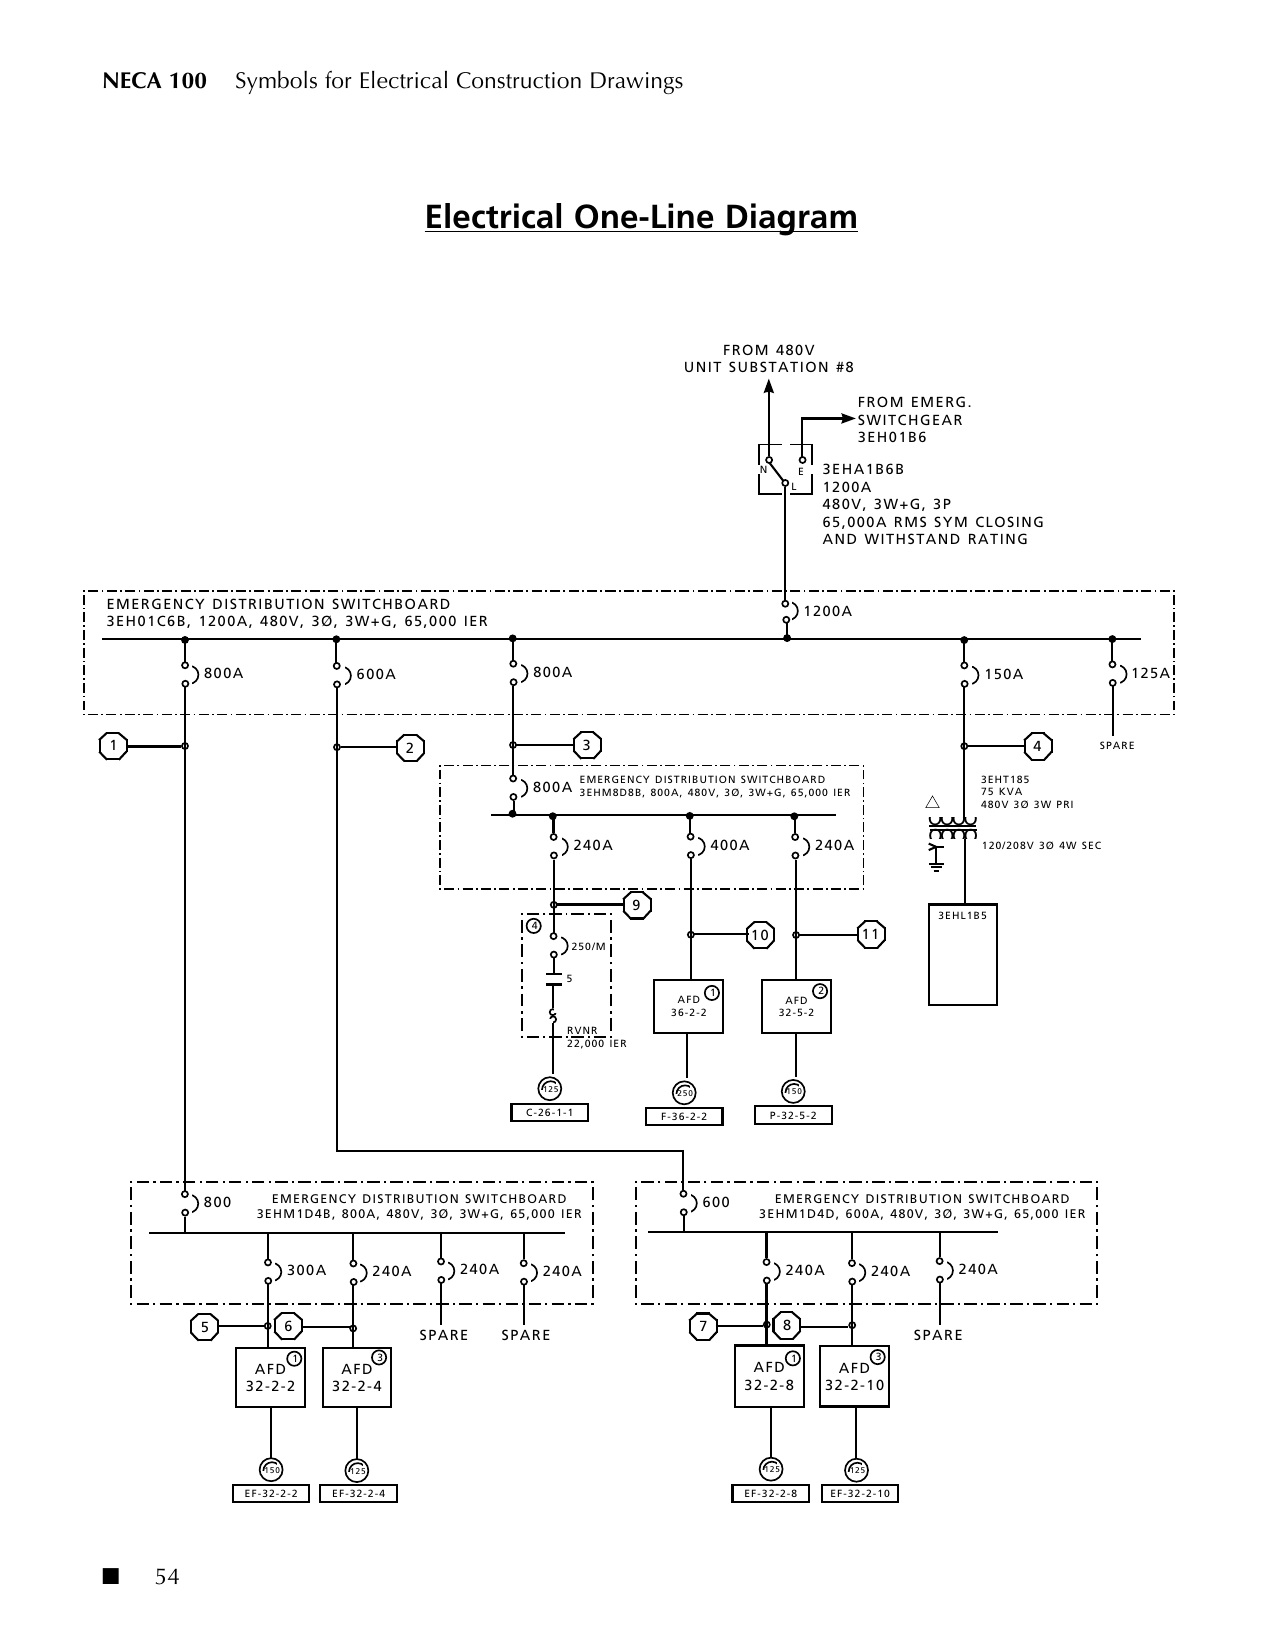circuit_breaker: (497, 760, 534, 813), (318, 652, 358, 697), (502, 646, 536, 697), (833, 1246, 869, 1292), (952, 653, 984, 702), (769, 585, 804, 629), (336, 1249, 372, 1290), (170, 650, 204, 693), (540, 824, 574, 866), (1098, 650, 1131, 693), (510, 1247, 541, 1292), (172, 1179, 204, 1222), (671, 1185, 707, 1223), (928, 1245, 957, 1290), (782, 824, 812, 867), (681, 823, 712, 864), (755, 1249, 784, 1289), (544, 923, 571, 965), (429, 1247, 456, 1287), (258, 1250, 284, 1290)
ground: (920, 857, 945, 873)
switch: (752, 434, 816, 497)
transformer: (910, 783, 997, 854)
